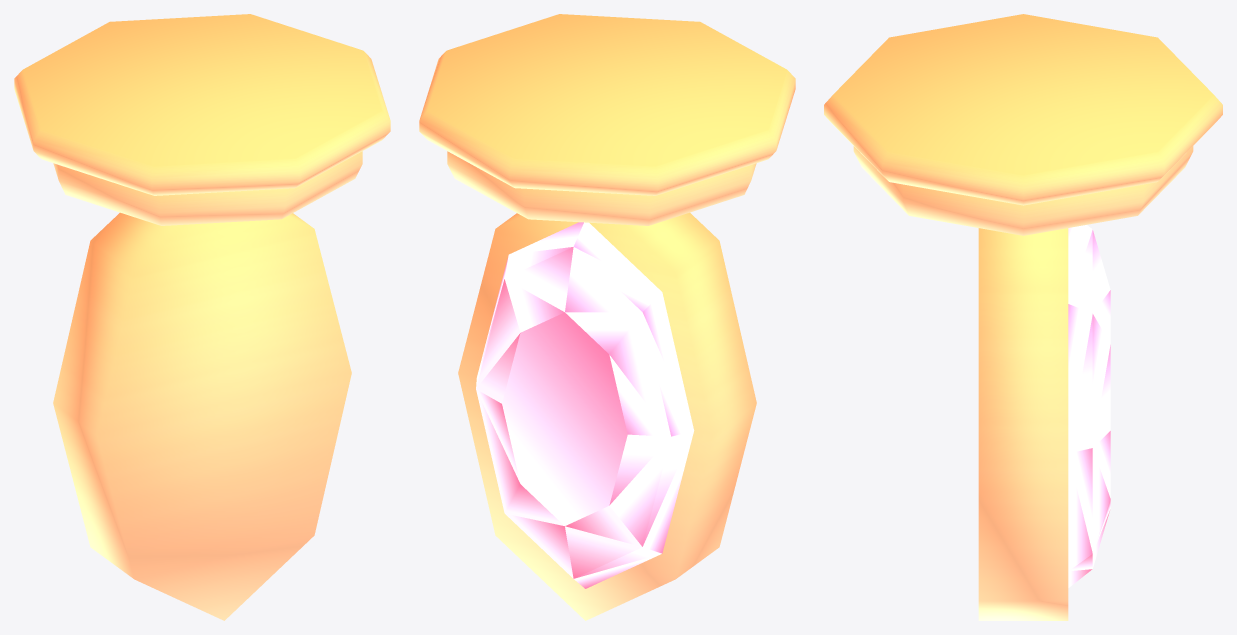
The model's file is wood_pommel_191_004.glb.
3 views of the same model, side by side, from view 1: azimuth 30°, elevation 25°; view 2: azimuth 150°, elevation 25°; view 3: azimuth 270°, elevation 25° (orthographic). The views are drawn at different scales.
Visible parts, largest first — view 1: wood_pommel_191.004; view 2: wood_pommel_191.004; view 3: wood_pommel_191.004.
Boxes of the visible parts, x1=… form: wood_pommel_191.004: x1=14, y1=14, x2=390, y2=620; wood_pommel_191.004: x1=419, y1=14, x2=795, y2=620; wood_pommel_191.004: x1=824, y1=14, x2=1222, y2=620.
Size of the model in its own units: 2.26 by 3.29 by 2.26.
1 material, 1 textured.
